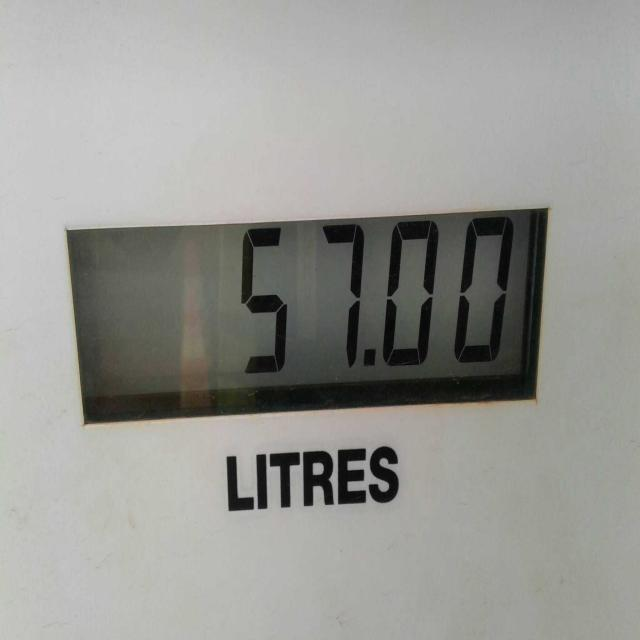.: (356, 340, 382, 378)
0: (454, 212, 528, 386), (382, 215, 453, 359)
5: (226, 226, 294, 380)
7: (316, 218, 366, 384)
